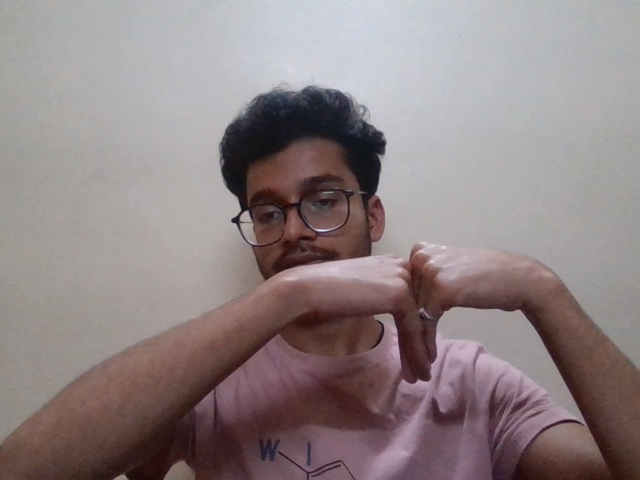yesterday: (275, 240, 549, 390)
